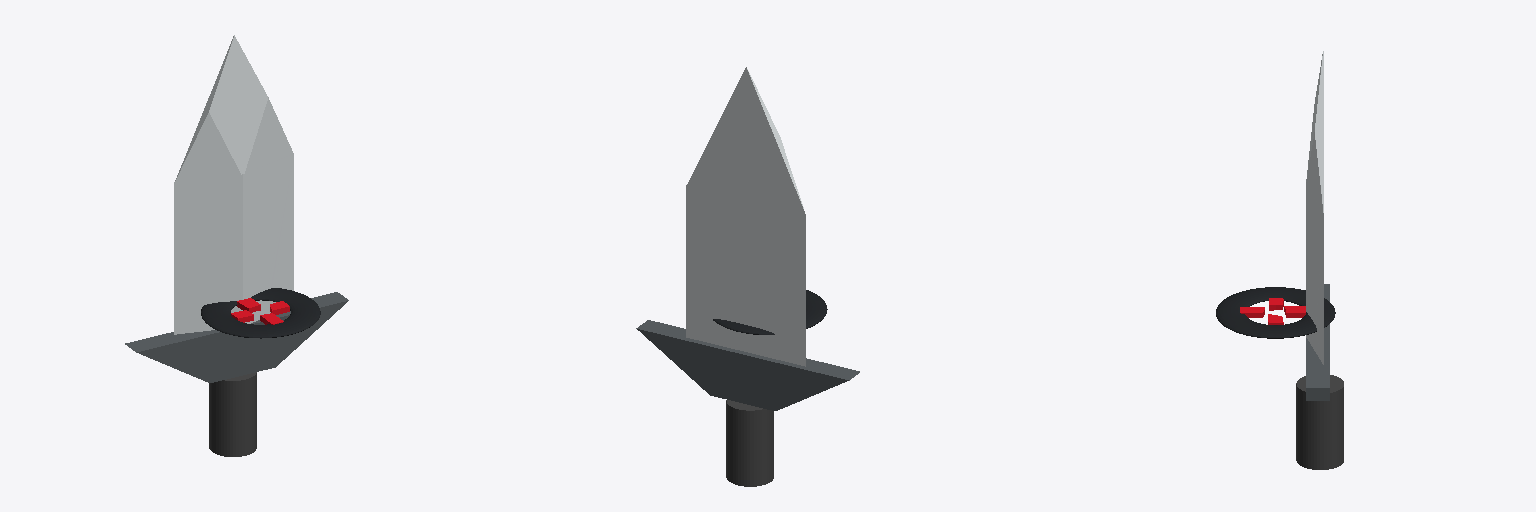
Rendered from tinker.obj.
3 views of the same model, side by side, from view 1: azimuth 30°, elevation 25°; view 2: azimuth 150°, elevation 25°; view 3: azimuth 270°, elevation 25° (orthographic).
Visible parts, largest first — view 1: obj_0; view 2: obj_0; view 3: obj_0.
Part boxes in pixels (x1,y1,x2,y2): obj_0: (125,35,348,456); obj_0: (636,67,859,486); obj_0: (1216,51,1343,469).
Bounding box in the file's own units: 41 × 75.47 × 21.47.